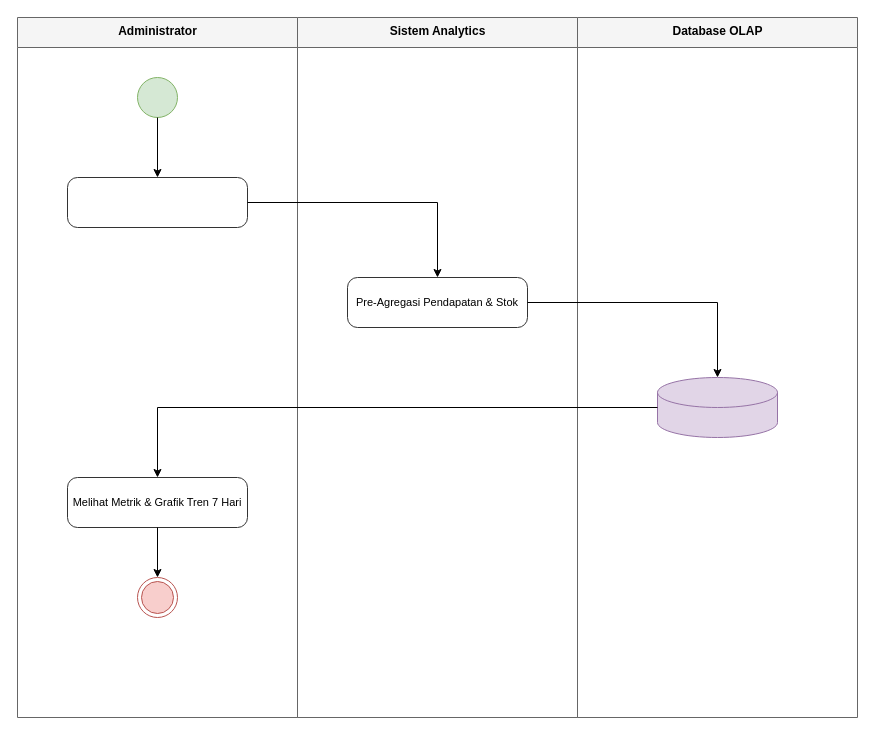
Image size: 875x735. Some labels were removed from this diagram. The centre of each missing label's shape, as x and y in pixels:
Login & Akses /dashboard: point (157, 202)
Query Sales Summary & Alert: point (717, 407)
